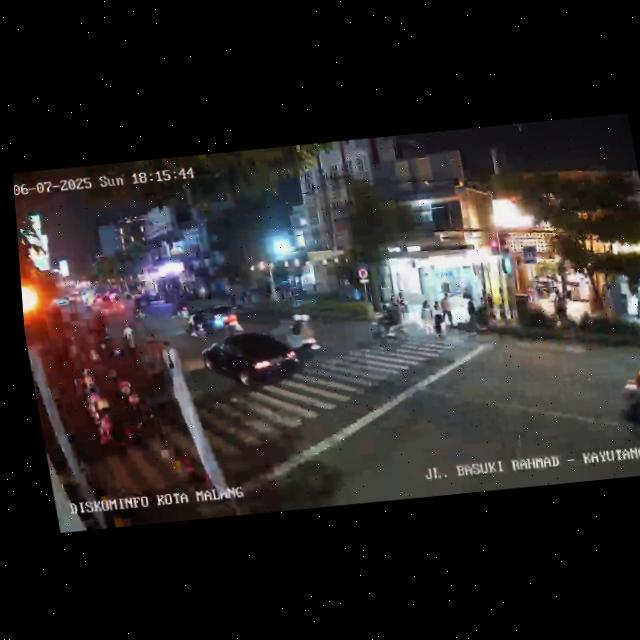car: (200, 324, 310, 397), (182, 301, 243, 339)
motorcycle: (610, 354, 640, 445), (281, 310, 322, 361), (366, 303, 406, 343), (182, 309, 207, 340), (130, 296, 147, 320)
person: (158, 335, 179, 372), (428, 300, 447, 339), (461, 293, 479, 332), (416, 298, 434, 337), (439, 293, 456, 334), (120, 323, 140, 357), (552, 289, 570, 323), (483, 289, 498, 321), (632, 288, 640, 319)
